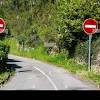No entry: (82, 17, 98, 34)
